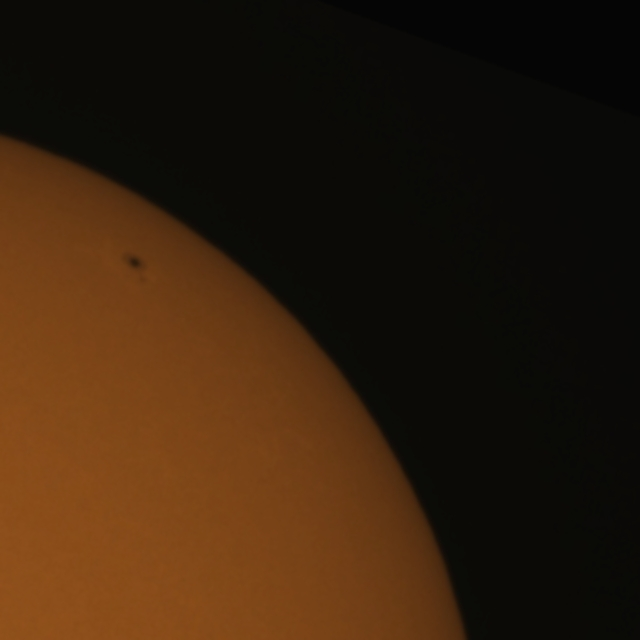sunspot: (120, 251, 149, 283)
